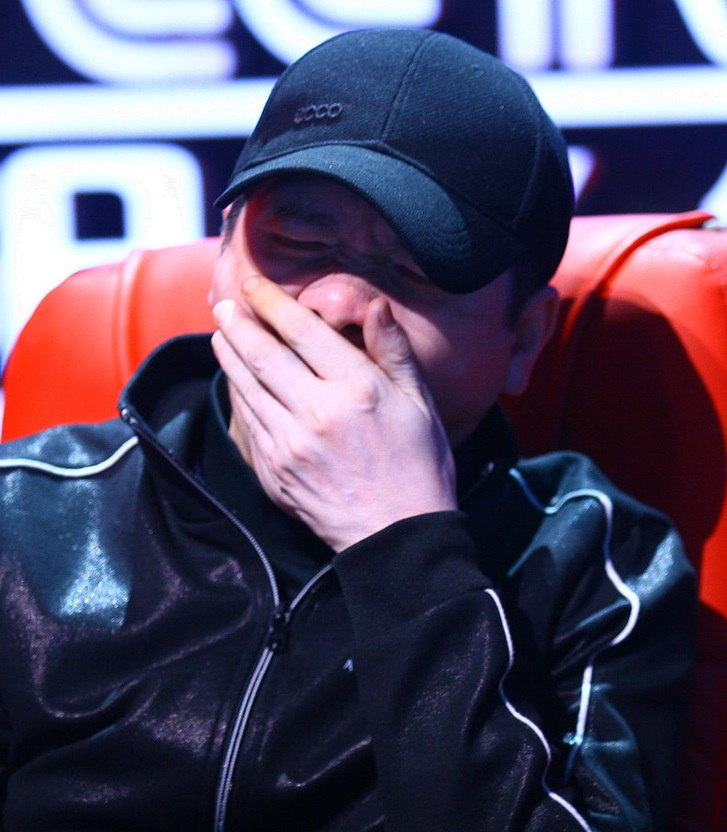face: (230, 135, 490, 468)
